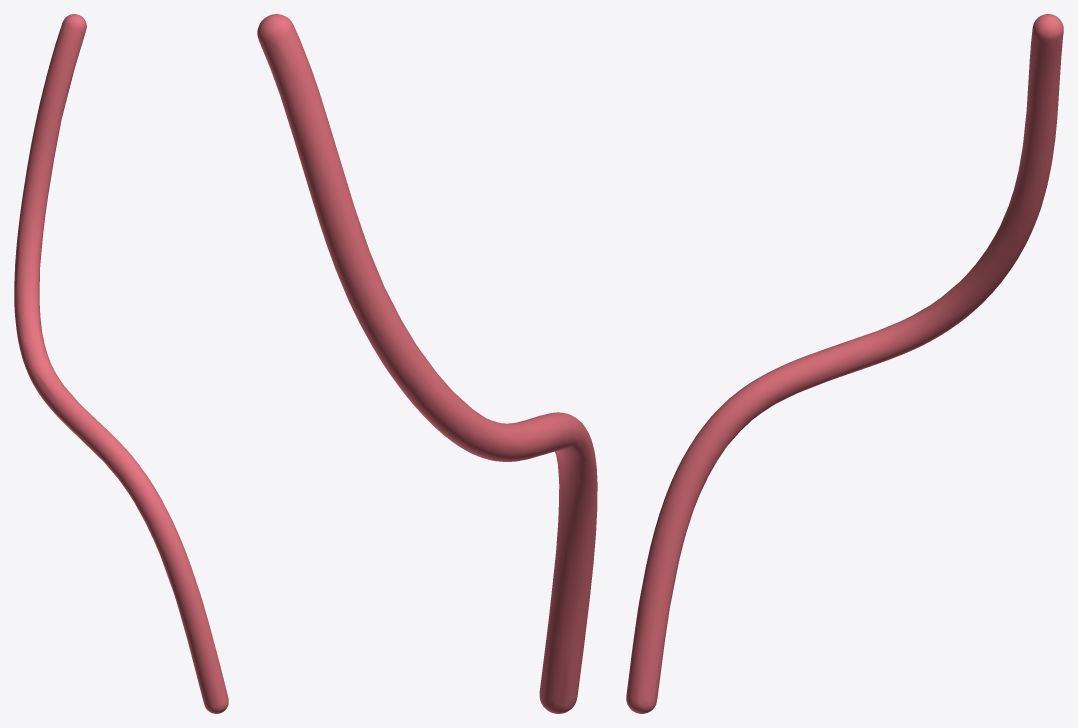
Rendered from fma22764_fj2295.glb.
3 views of the same model, side by side, from view 1: azimuth 30°, elevation 25°; view 2: azimuth 150°, elevation 25°; view 3: azimuth 270°, elevation 25° (orthographic). The views are drawn at different scales.
Visible parts, largest first — view 1: FMA22764_FJ2295; view 2: FMA22764_FJ2295; view 3: FMA22764_FJ2295.
Part boxes in pixels (left/top/right/bottom): FMA22764_FJ2295: left=14, top=14, right=228, bottom=713; FMA22764_FJ2295: left=257, top=14, right=597, bottom=713; FMA22764_FJ2295: left=626, top=14, right=1063, bottom=713.
Bounding box in the file's own units: 0.0148 × 0.0746 × 0.0417.
